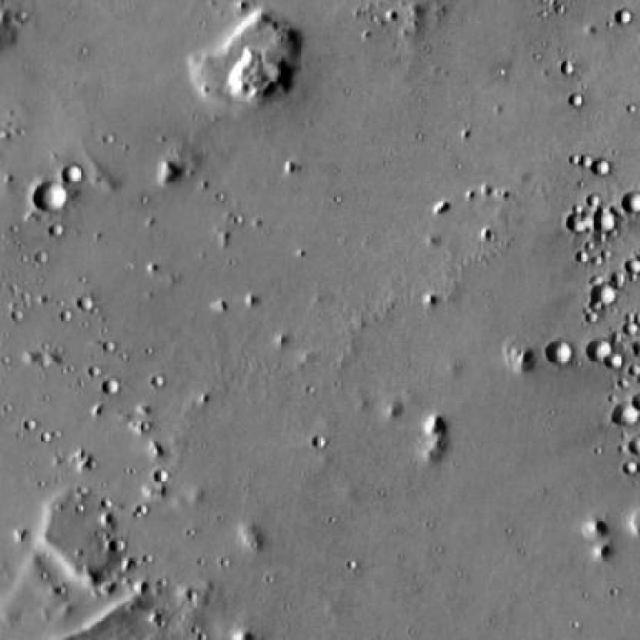crater: (37, 183, 69, 214), (611, 399, 640, 427), (592, 283, 618, 308), (590, 338, 613, 360), (571, 213, 594, 235), (548, 340, 570, 362), (592, 155, 610, 173), (616, 10, 633, 28), (66, 164, 82, 182), (102, 377, 120, 392)
